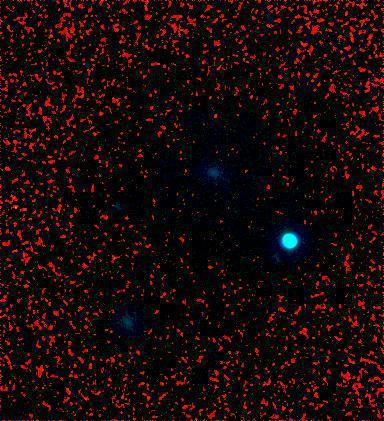star: (102, 244, 132, 274)
